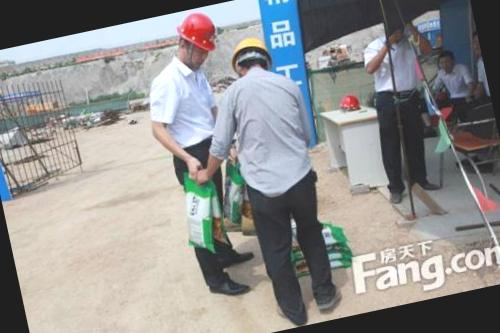no_helmet: (432, 44, 464, 78)
